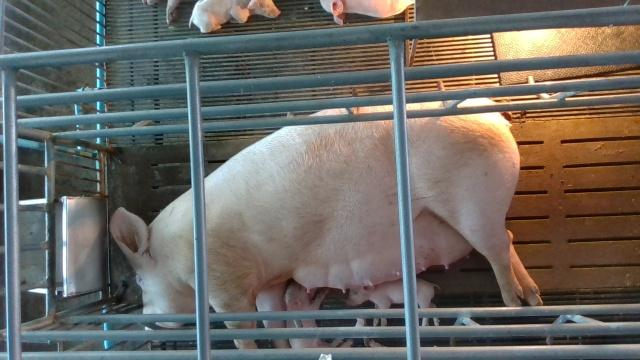piglet: (346, 276, 440, 326), (285, 283, 352, 349), (189, 0, 281, 33), (320, 0, 416, 25)
sow-sleep-lactate: (109, 97, 543, 349)
